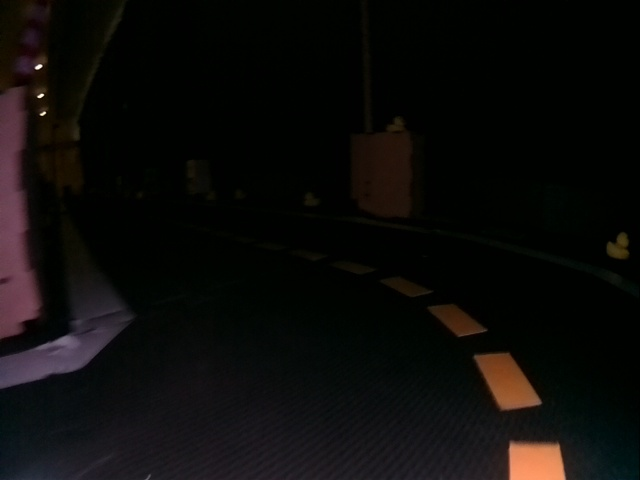Duckie: (608, 232, 629, 256), (386, 116, 405, 130), (303, 193, 318, 202), (235, 189, 243, 197), (209, 191, 215, 201)
